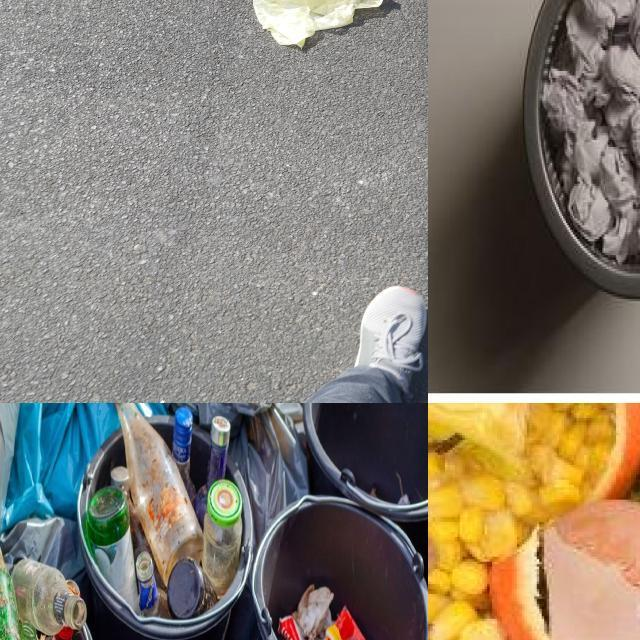Garbage: (428, 403, 640, 640), (85, 403, 242, 619), (278, 585, 367, 640)
Glass_bottle: (114, 403, 203, 585), (85, 486, 138, 608), (12, 558, 86, 636), (203, 479, 242, 598), (194, 415, 231, 525), (110, 466, 150, 559), (167, 558, 218, 618), (135, 551, 169, 617), (173, 408, 197, 501), (19, 620, 37, 640), (66, 581, 80, 598)
Paper: (542, 0, 640, 265)
Plastic_Bag: (253, 0, 382, 47)
Tetrapack: (335, 607, 367, 640)
top_view_waste: (537, 0, 640, 261)
